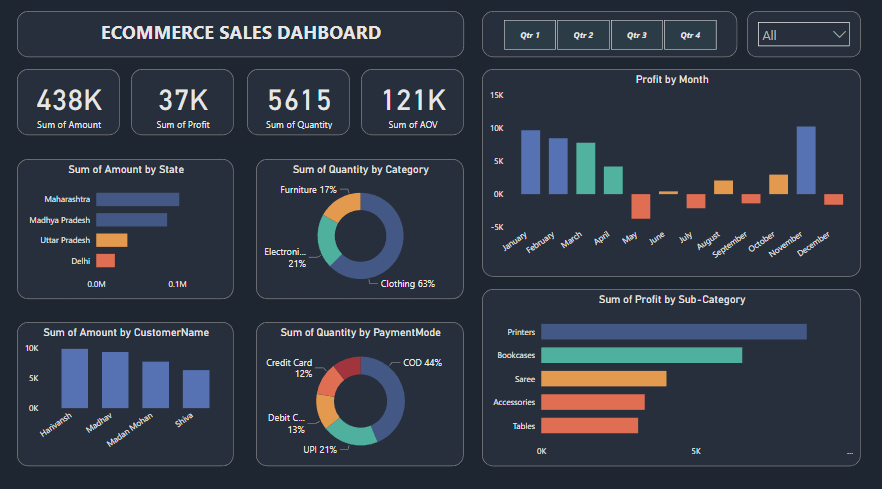

This screenshot's page, from the dashboard's own definition file:
{"tool":"powerbi","page":{"name":"Page 1","canvas":[1280,720],"ordinal":0},"visuals":[{"type":"textbox","box":[26.1,15.9,647.8,66.7],"z":0},{"type":"columnChart","title":"Profit by Month","fields":{"Y":["Sum(Details.Profit)"],"Category":["Orders.Order Date.Variation.Date Hierarchy.Month"]},"box":[700,100,549.3,301.4],"z":1000},{"type":"barChart","fields":{"Category":["Details.Sub-Category"],"Y":["Sum(Details.Profit)"]},"box":[700,418.8,549.3,256.5],"z":2000},{"type":"donutChart","fields":{"Y":["Sum(Details.Quantity)"],"Category":["Details.PaymentMode"]},"box":[372.5,466.7,301.4,208.7],"z":3000},{"type":"donutChart","fields":{"Category":["Details.Category"],"Y":["Sum(Details.Quantity)"]},"box":[372.5,230.4,301.4,202.9],"z":4000},{"type":"card","fields":{"Values":["Sum(Details.Amount)"]},"box":[26.1,100,149.3,95.7],"z":5000},{"type":"card","fields":{"Values":["Sum(Details.Profit)"]},"box":[191.3,100,149.3,95.7],"z":6000},{"type":"card","fields":{"Values":["Sum(Details.Quantity)"]},"box":[359.4,100,149.3,95.7],"z":7000},{"type":"card","fields":{"Values":["Sum(Details.AOV)"]},"box":[524.6,100,149.3,95.7],"z":8000},{"type":"barChart","fields":{"Category":["Orders.State"],"Y":["Sum(Details.Amount)"]},"box":[26.1,230.4,314.5,202.9],"z":9000},{"type":"columnChart","fields":{"Category":["Orders.CustomerName"],"Y":["Sum(Details.Amount)"]},"box":[26.1,466.7,314.5,208.7],"z":10000},{"type":"slicer","fields":{"Values":["Orders.Order Date.Variation.Date Hierarchy.Quarter"]},"box":[700,15.9,369.6,66.7],"z":11000},{"type":"slicer","fields":{"Values":["Orders.State"]},"box":[1084.1,15.9,165.2,66.7],"z":12000}]}

Visuals, with their boxes in screenshot pixels (x1, y1, x2, y2), scaled from the page's 1280x720 canvas onto the 882x489 screenshot:
textbox: pyautogui.locateOnScreen(18, 11, 464, 56)
"Profit by Month" columnChart: pyautogui.locateOnScreen(482, 68, 861, 273)
barChart - Details.Sub-Category x Sum(Details.Profit): pyautogui.locateOnScreen(482, 284, 861, 459)
donutChart - Sum(Details.Quantity) x Details.PaymentMode: pyautogui.locateOnScreen(257, 317, 464, 459)
donutChart - Details.Category x Sum(Details.Quantity): pyautogui.locateOnScreen(257, 156, 464, 294)
card - Sum(Details.Amount): pyautogui.locateOnScreen(18, 68, 121, 133)
card - Sum(Details.Profit): pyautogui.locateOnScreen(132, 68, 235, 133)
card - Sum(Details.Quantity): pyautogui.locateOnScreen(248, 68, 351, 133)
card - Sum(Details.AOV): pyautogui.locateOnScreen(361, 68, 464, 133)
barChart - Orders.State x Sum(Details.Amount): pyautogui.locateOnScreen(18, 156, 235, 294)
columnChart - Orders.CustomerName x Sum(Details.Amount): pyautogui.locateOnScreen(18, 317, 235, 459)
slicer - Orders.Order Date.Variation.Date Hierarchy.Quarter: pyautogui.locateOnScreen(482, 11, 737, 56)
slicer - Orders.State: pyautogui.locateOnScreen(747, 11, 861, 56)
